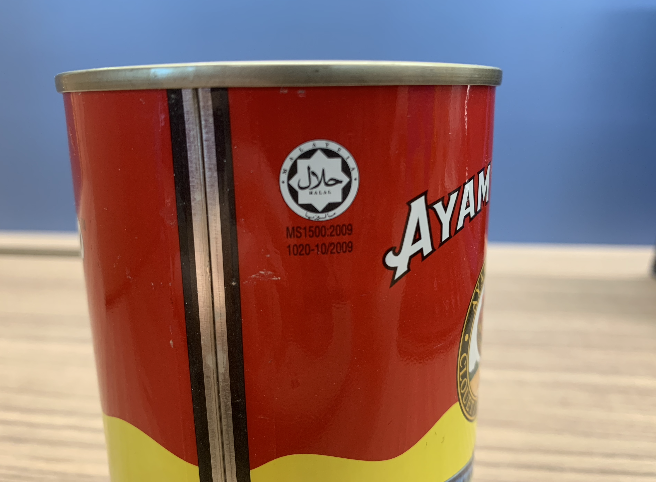halal: (290, 156, 353, 211)
